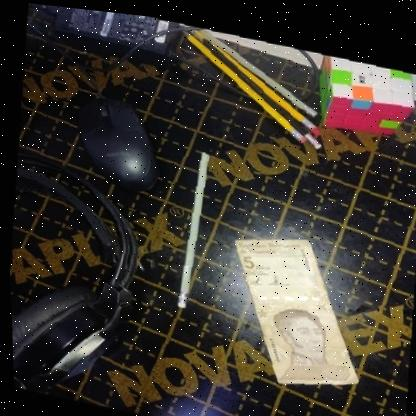five-front-vef: (223, 221, 366, 391)
